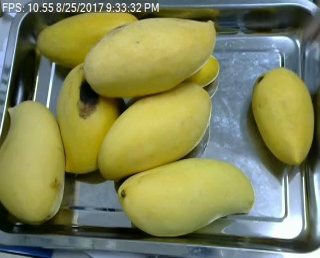Mango: (98, 84, 212, 181), (84, 15, 215, 96), (119, 160, 255, 236), (0, 99, 67, 223), (54, 61, 121, 175), (251, 67, 315, 165), (38, 11, 137, 68), (174, 54, 218, 90)
